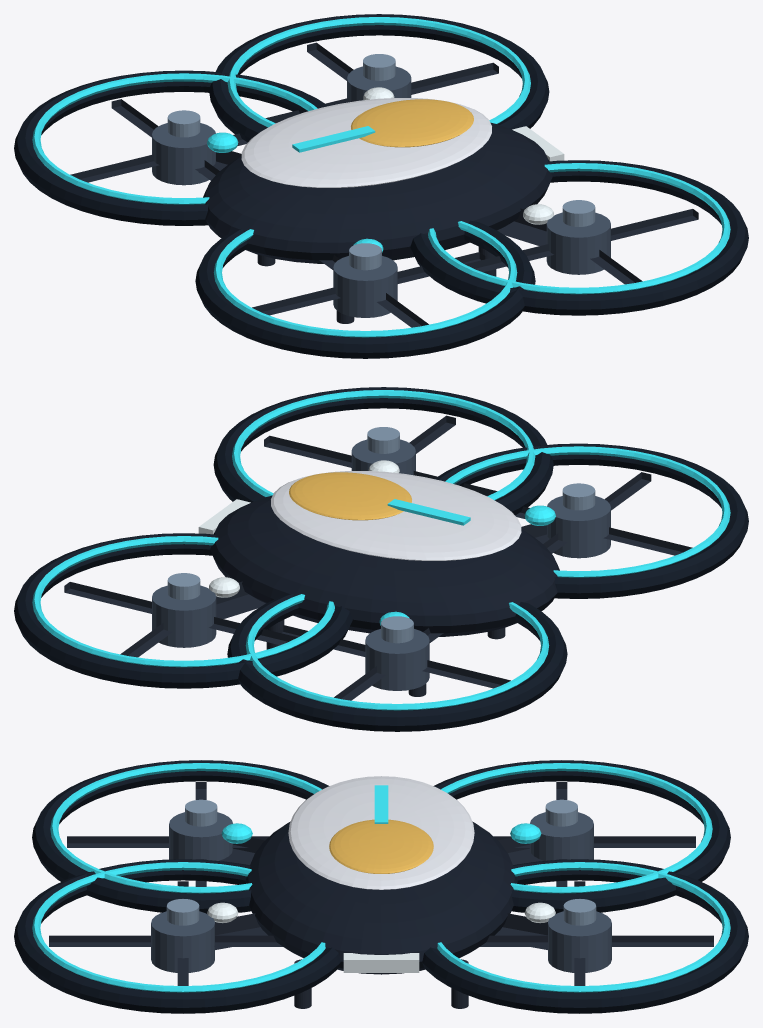
The model's file is festival_body.dae.
3 views of the same model, one above another, from view 1: azimuth 30°, elevation 25°; view 2: azimuth 150°, elevation 25°; view 3: azimuth 270°, elevation 25° (orthographic).
Visible parts, largest first — view 1: guard, shell, accent, top, carbon, motor, gold, silver, light; view 2: guard, shell, accent, top, carbon, motor, gold, silver, light; view 3: guard, shell, accent, top, carbon, motor, gold, silver, light.
Part boxes in pixels (x1,y1,x2,y2): guard: (14,14,748,358); shell: (203,122,552,263); accent: (32,17,730,337); top: (241,98,491,187); carbon: (70,42,698,327); motor: (152,66,610,317); gold: (351,99,473,147); silver: (167,54,595,270); light: (363,87,564,224); guard: (14,387,748,731); shell: (210,495,559,636); accent: (32,390,730,710); top: (271,471,521,560); carbon: (64,415,692,700); motor: (152,439,610,690); gold: (289,472,411,520); silver: (167,427,595,643); light: (198,460,399,597); guard: (14,760,748,1013); shell: (245,821,517,974); accent: (32,763,730,992); top: (288,776,474,889); carbon: (49,782,713,1008); motor: (151,812,611,972); gold: (329,819,433,873); silver: (166,799,596,925); light: (207,902,555,972).
Size of the model in its own units: 0.9843 by 1.26 by 0.277.
